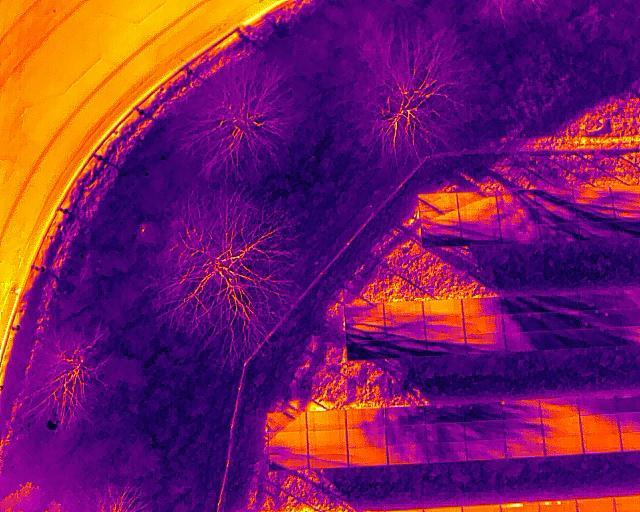No-Anomaly: (348, 446, 387, 468), (307, 428, 347, 449), (307, 409, 345, 431), (581, 414, 619, 434), (582, 434, 621, 453), (545, 436, 582, 456), (424, 299, 462, 316), (576, 496, 614, 512)
Shadowing: (387, 443, 426, 467), (576, 287, 617, 309), (267, 430, 308, 452), (419, 225, 460, 247), (387, 336, 428, 357), (384, 317, 425, 338), (507, 330, 546, 352), (503, 313, 545, 333), (581, 306, 620, 327), (427, 442, 466, 463), (347, 340, 387, 360), (346, 408, 386, 428), (503, 439, 543, 459), (386, 425, 426, 445), (545, 329, 585, 349), (425, 423, 465, 443), (425, 315, 463, 336), (347, 427, 385, 448), (497, 224, 539, 243), (467, 334, 506, 354), (584, 327, 623, 347), (309, 448, 348, 468), (544, 416, 581, 437), (426, 336, 466, 355), (540, 399, 580, 418), (466, 440, 504, 460), (466, 422, 506, 441), (386, 406, 426, 425), (267, 412, 307, 431), (347, 320, 383, 341), (460, 226, 502, 244), (536, 205, 575, 224), (457, 192, 496, 211), (427, 404, 466, 423), (466, 402, 503, 422), (497, 189, 534, 209), (543, 309, 580, 329), (500, 296, 541, 314), (580, 396, 618, 415), (462, 296, 500, 315), (506, 419, 544, 438), (464, 315, 502, 334), (541, 292, 577, 312), (417, 192, 457, 210), (383, 300, 423, 318), (503, 402, 542, 420), (540, 222, 579, 240), (420, 208, 459, 226), (459, 209, 498, 227), (345, 302, 384, 320), (269, 453, 308, 470), (498, 207, 537, 224), (533, 189, 573, 205), (576, 207, 615, 223), (578, 222, 615, 238), (572, 191, 611, 206)
